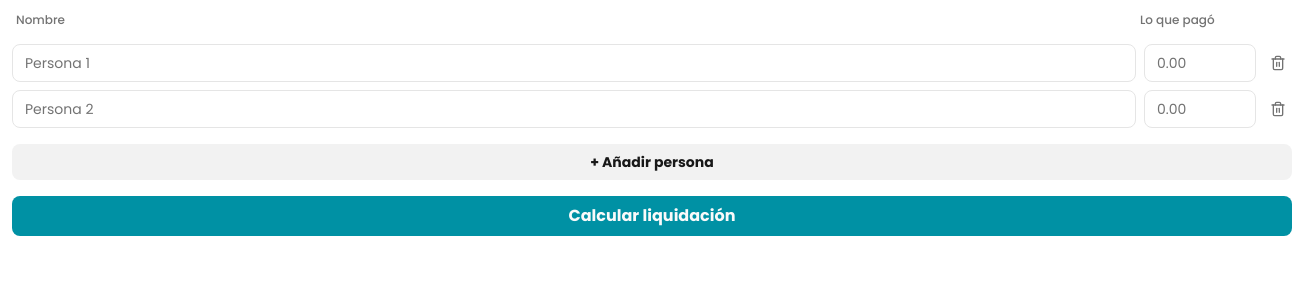
Test case: ExpenseSettlement › agrega una nueva fila al hacer clic en '+ Añadir persona'
Step 1. Click the button "+ Añadir persona" → (652,162), box [12,144,1292,180]
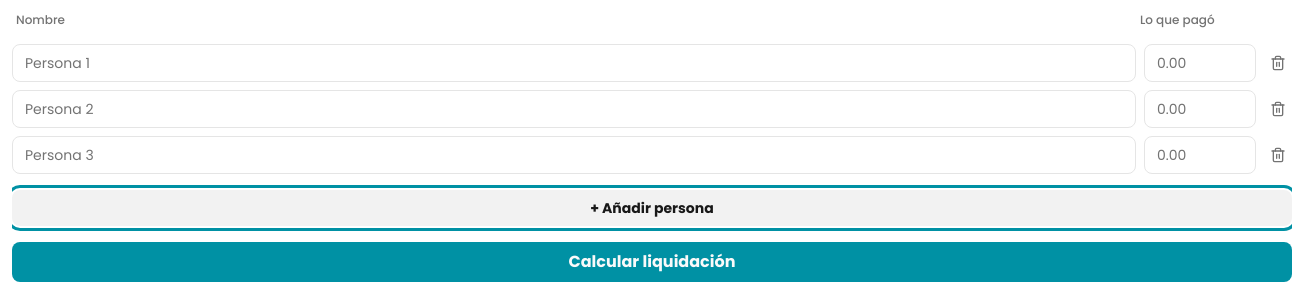
Check: the field with placeholder "Persona 3" is shown, box [12,136,1136,174]
